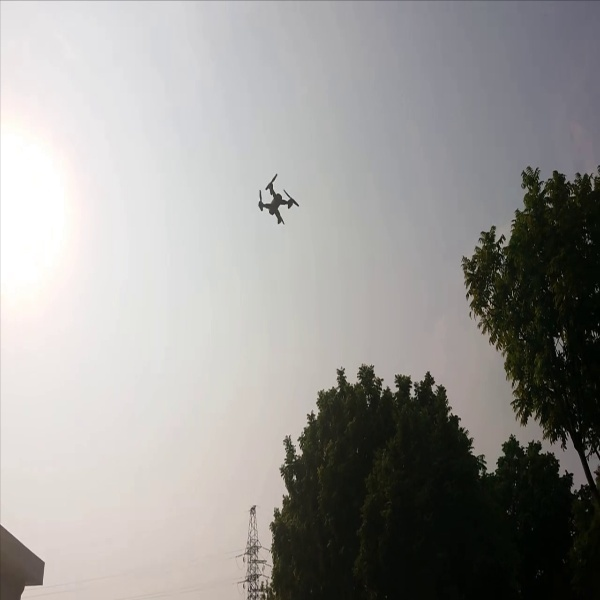drone: (242, 156, 303, 234)
